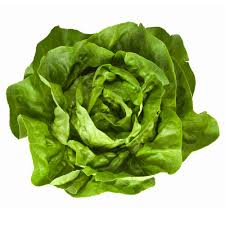lettuce: (9, 22, 221, 197)
